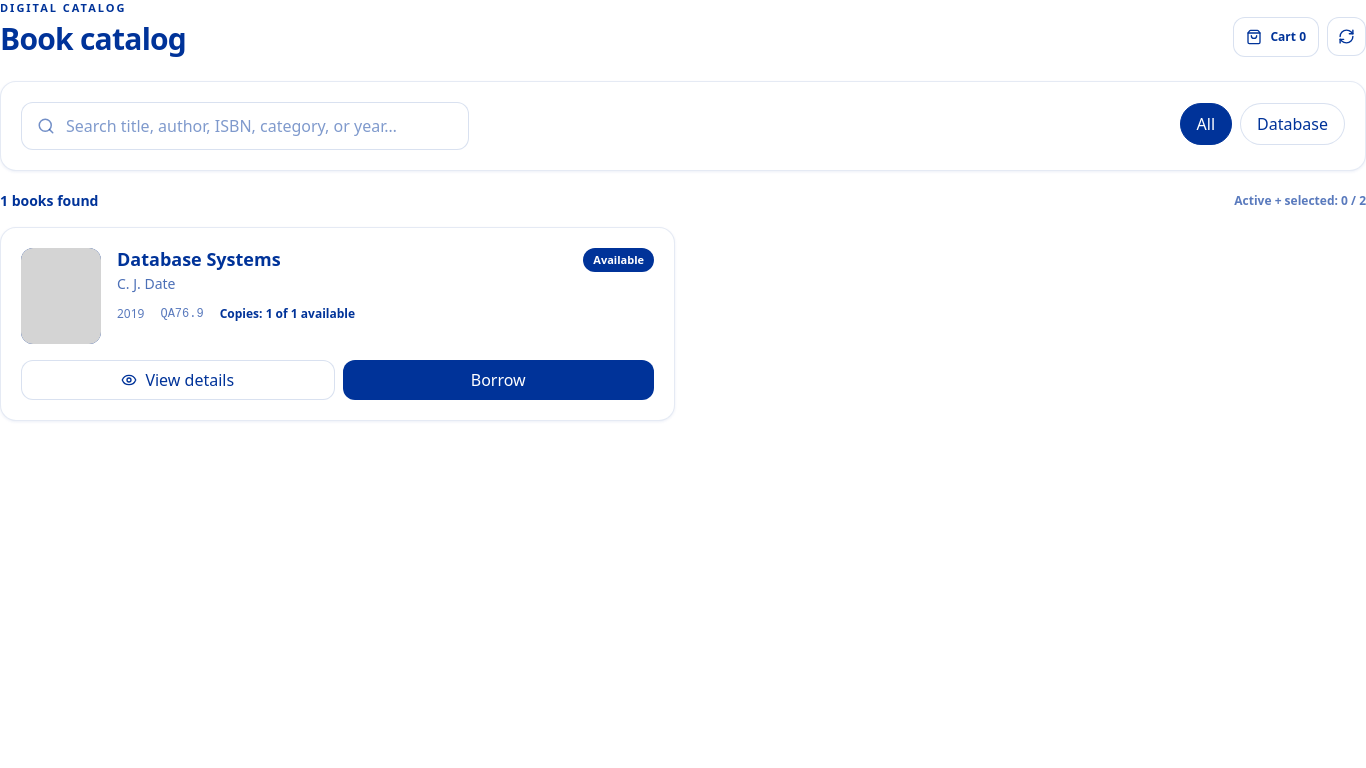
Test: BookCatalog availability refresh › opens a cover-first overview with catalog details below the image
Step 1. Click the button "View details" → (178, 380), box x1=21 y1=360 x2=334 y2=400
(page scrolled)
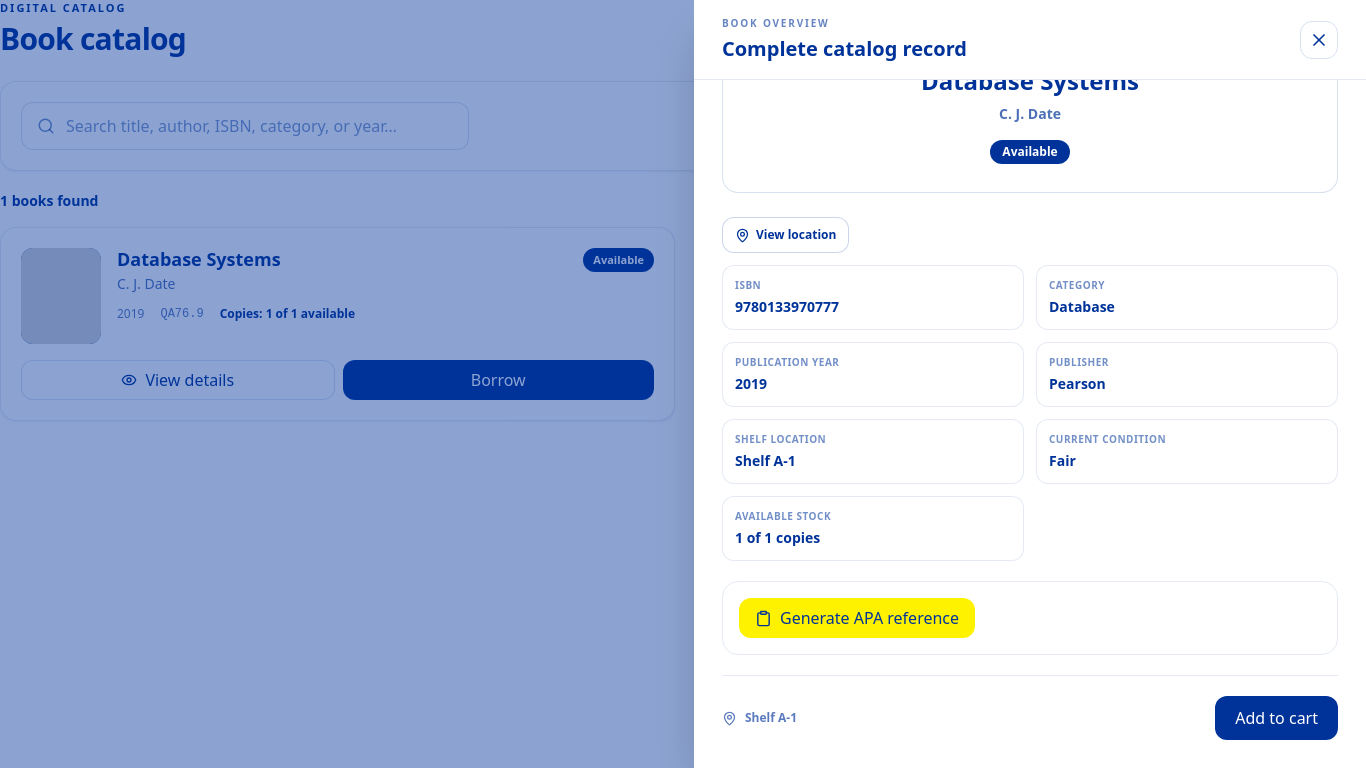
Expected: the text "ISBN" is shown, x1=735 y1=278 x2=761 y2=292
Expected: the text "Fair" is shown, x1=1049 y1=451 x2=1076 y2=470
Expected: the button "Generate APA reference" is shown, x1=739 y1=598 x2=975 y2=638
